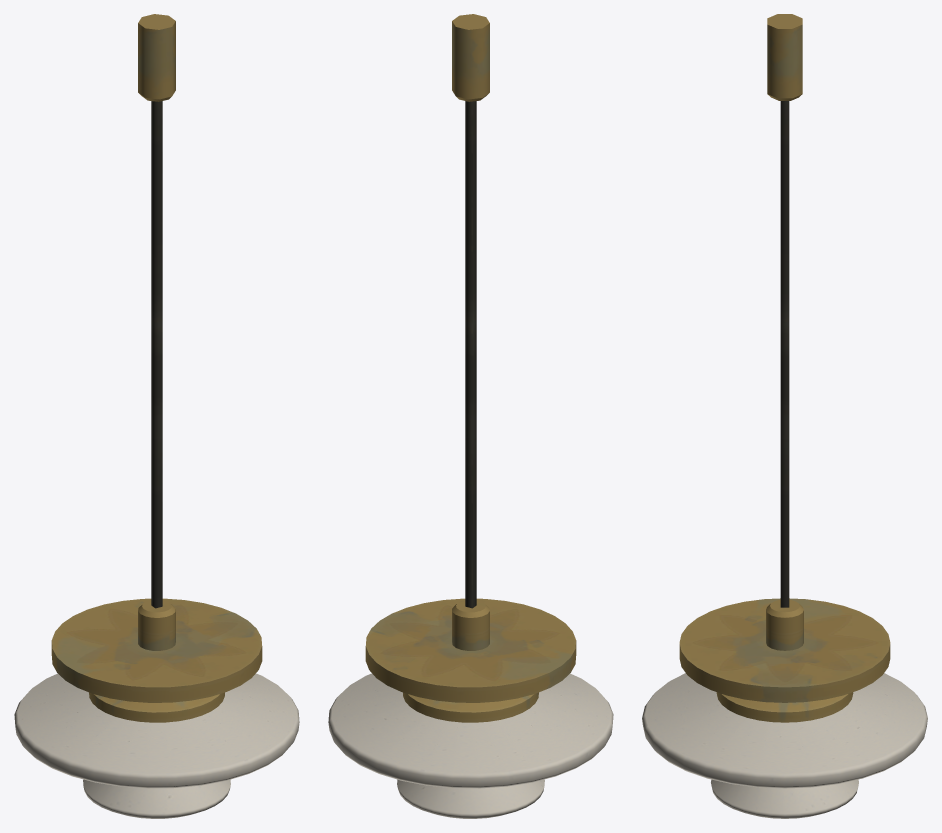
The model's file is HLamp.obj.
3 renders of one model, left to right at view 1: azimuth 30°, elevation 25°; view 2: azimuth 150°, elevation 25°; view 3: azimuth 270°, elevation 25°, orthographic.
Parts seen in each view (by area): view 1: LampTop_LampTopMesh, LampBottom_LampBottomMesh; view 2: LampTop_LampTopMesh, LampBottom_LampBottomMesh; view 3: LampTop_LampTopMesh, LampBottom_LampBottomMesh.
Boxes of the visible parts, <box> form: LampTop_LampTopMesh: <box>51,14,262,722</box>; LampBottom_LampBottomMesh: <box>14,673,299,818</box>; LampTop_LampTopMesh: <box>365,14,576,722</box>; LampBottom_LampBottomMesh: <box>328,673,613,818</box>; LampTop_LampTopMesh: <box>679,14,890,722</box>; LampBottom_LampBottomMesh: <box>642,673,927,818</box>.
Size of the model in its own units: 1.25 by 3.78 by 1.26.
Materials: 2 (2 with a texture image).
